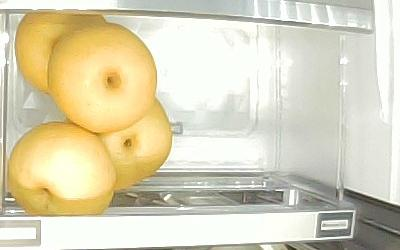pear: (47, 22, 158, 133), (8, 121, 117, 213), (95, 94, 173, 192), (16, 11, 108, 93)
